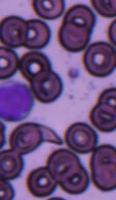L: (0, 79, 34, 122)
